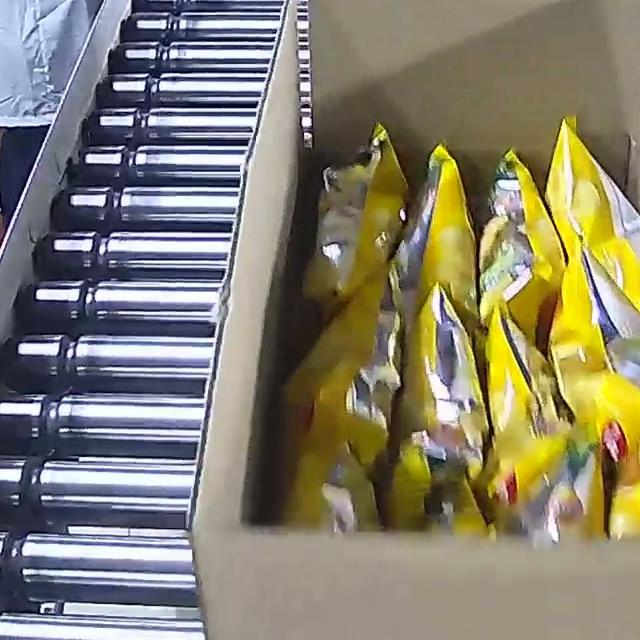salted: (276, 111, 640, 545)
